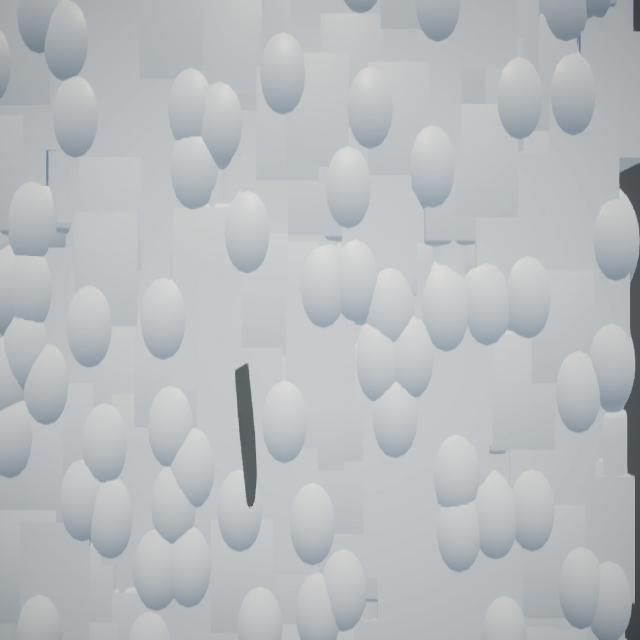top_knife: (236, 365, 258, 510)
